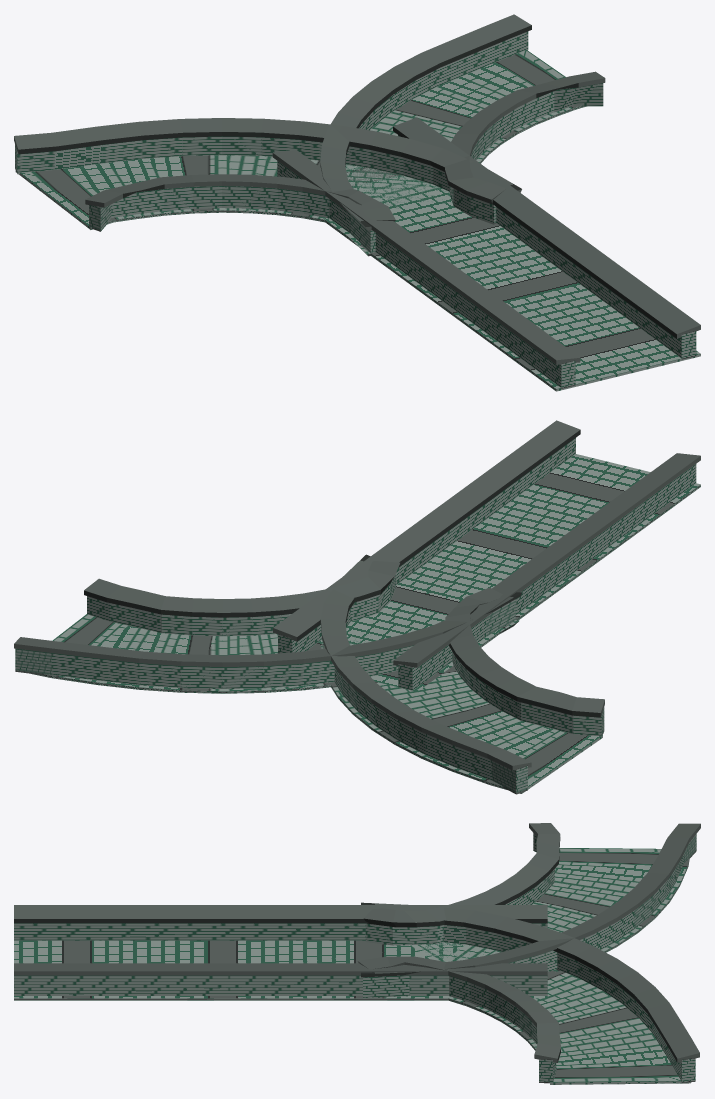
File: StonePath.glb
3 renders of one model, top to bottom at view 1: azimuth 30°, elevation 25°; view 2: azimuth 150°, elevation 25°; view 3: azimuth 270°, elevation 25°, orthographic. The views are drawn at different scales.
Visible parts, largest first — view 1: StonePath, CurveX-, CurveX+; view 2: StonePath, CurveX+, CurveX-; view 3: StonePath, CurveX+, CurveX-.
Part boxes in pixels (left/top/right/bottom): StonePath: left=272, top=117, right=700, bottom=391; CurveX-: left=14, top=118, right=521, bottom=231; CurveX+: left=320, top=14, right=605, bottom=256; StonePath: left=273, top=420, right=700, bottom=691; CurveX+: left=14, top=561, right=521, bottom=693; CurveX-: left=320, top=554, right=604, bottom=794; StonePath: left=14, top=905, right=547, bottom=1000; CurveX+: left=358, top=902, right=699, bottom=1084; CurveX-: left=361, top=823, right=700, bottom=998.
Size of the model in its own units: 85.3 by 5.29 by 105.
3 materials, 3 textured.
